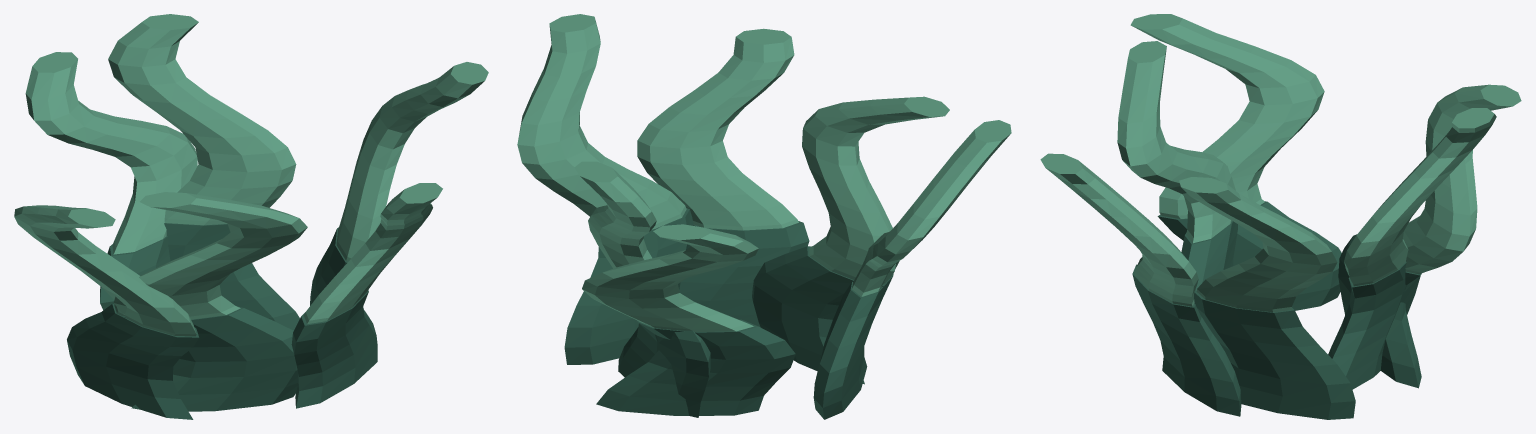
File: vge_oxyalgae_plant_young.obj
The picture shows the model from 3 angles, left to right: view 1: azimuth 30°, elevation 25°; view 2: azimuth 150°, elevation 25°; view 3: azimuth 270°, elevation 25°; orthographic projection. The views are drawn at different scales.
Visible parts, largest first — view 1: vge_oxyalgae_plant_young_3, vge_oxyalgae_plant_young_5, vge_oxyalgae_plant_young_8, vge_oxyalgae_plant_young_9, vge_oxyalgae_plant_young_6, vge_oxyalgae_plant_young_1, vge_oxyalgae_plant_young_7, vge_oxyalgae_plant_young_10, vge_oxyalgae_plant_young_11, vge_oxyalgae_plant_young_2, vge_oxyalgae_plant_young_4, vge_oxyalgae_plant_young_0; view 2: vge_oxyalgae_plant_young_11, vge_oxyalgae_plant_young_1, vge_oxyalgae_plant_young_9, vge_oxyalgae_plant_young_4, vge_oxyalgae_plant_young_5, vge_oxyalgae_plant_young_8, vge_oxyalgae_plant_young_7, vge_oxyalgae_plant_young_6, vge_oxyalgae_plant_young_10, vge_oxyalgae_plant_young_3, vge_oxyalgae_plant_young_0, vge_oxyalgae_plant_young_2; view 3: vge_oxyalgae_plant_young_7, vge_oxyalgae_plant_young_0, vge_oxyalgae_plant_young_1, vge_oxyalgae_plant_young_9, vge_oxyalgae_plant_young_5, vge_oxyalgae_plant_young_3, vge_oxyalgae_plant_young_10, vge_oxyalgae_plant_young_11, vge_oxyalgae_plant_young_2, vge_oxyalgae_plant_young_4, vge_oxyalgae_plant_young_6, vge_oxyalgae_plant_young_8.
Part boxes in pixels (x1,y1,x2,y2): vge_oxyalgae_plant_young_3: (108,14,296,225); vge_oxyalgae_plant_young_5: (25,52,197,254); vge_oxyalgae_plant_young_8: (123,306,298,411); vge_oxyalgae_plant_young_9: (113,192,307,319); vge_oxyalgae_plant_young_6: (67,304,199,419); vge_oxyalgae_plant_young_1: (336,62,488,261); vge_oxyalgae_plant_young_7: (14,205,196,336); vge_oxyalgae_plant_young_10: (291,290,377,408); vge_oxyalgae_plant_young_11: (303,183,442,323); vge_oxyalgae_plant_young_2: (164,223,299,330); vge_oxyalgae_plant_young_4: (100,236,170,310); vge_oxyalgae_plant_young_0: (310,227,347,305); vge_oxyalgae_plant_young_11: (637,28,798,230); vge_oxyalgae_plant_young_1: (517,14,686,229); vge_oxyalgae_plant_young_9: (802,96,949,282); vge_oxyalgae_plant_young_4: (596,319,795,415); vge_oxyalgae_plant_young_5: (582,224,758,332); vge_oxyalgae_plant_young_8: (752,246,884,384); vge_oxyalgae_plant_young_7: (852,120,1011,296); vge_oxyalgae_plant_young_6: (813,273,893,419); vge_oxyalgae_plant_young_10: (679,221,809,327); vge_oxyalgae_plant_young_3: (574,161,656,268); vge_oxyalgae_plant_young_0: (564,208,693,364); vge_oxyalgae_plant_young_2: (618,323,710,417); vge_oxyalgae_plant_young_7: (1130,14,1324,218); vge_oxyalgae_plant_young_0: (1194,290,1355,419); vge_oxyalgae_plant_young_1: (1179,177,1337,312); vge_oxyalgae_plant_young_9: (1117,41,1235,243); vge_oxyalgae_plant_young_5: (1403,84,1521,274); vge_oxyalgae_plant_young_3: (1344,108,1496,286); vge_oxyalgae_plant_young_10: (1132,264,1241,416); vge_oxyalgae_plant_young_11: (1040,153,1198,306); vge_oxyalgae_plant_young_2: (1328,262,1420,389); vge_oxyalgae_plant_young_4: (1338,234,1421,388); vge_oxyalgae_plant_young_6: (1157,201,1341,310); vge_oxyalgae_plant_young_8: (1181,221,1237,290).
Bounding box in the file's own units: 0.443 × 0.2651 × 0.4331.
